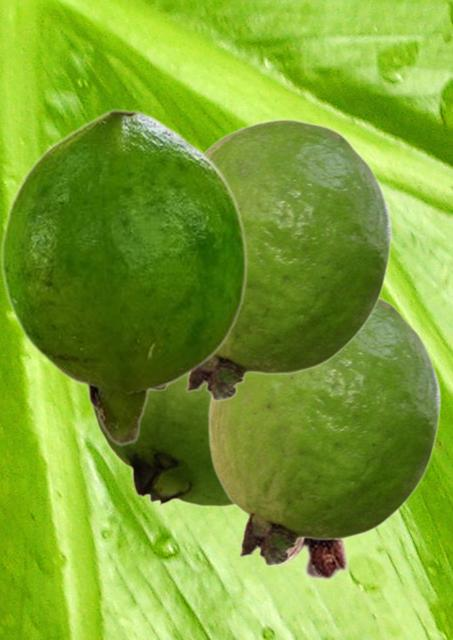guava: (0, 108, 247, 446), (207, 297, 440, 566), (184, 118, 391, 401), (89, 377, 233, 506), (259, 540, 351, 581)
